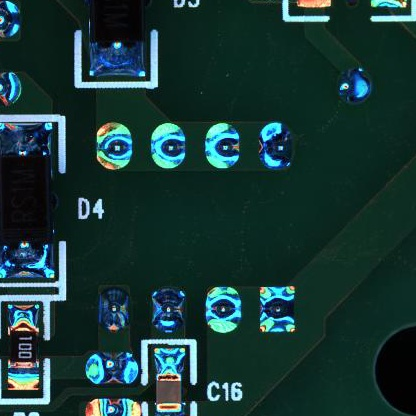spot: (83, 351, 140, 386), (258, 284, 297, 335), (95, 121, 135, 169), (206, 284, 243, 335), (151, 123, 187, 170), (206, 123, 240, 171), (151, 288, 186, 334), (259, 124, 292, 171), (98, 286, 129, 332), (336, 68, 373, 104)
